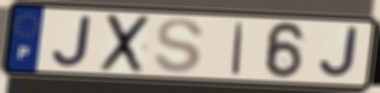6: (263, 19, 308, 82)
I: (229, 21, 246, 77)
J: (49, 13, 95, 69), (316, 25, 360, 81)
S: (152, 16, 207, 75)
X: (97, 12, 154, 75)
